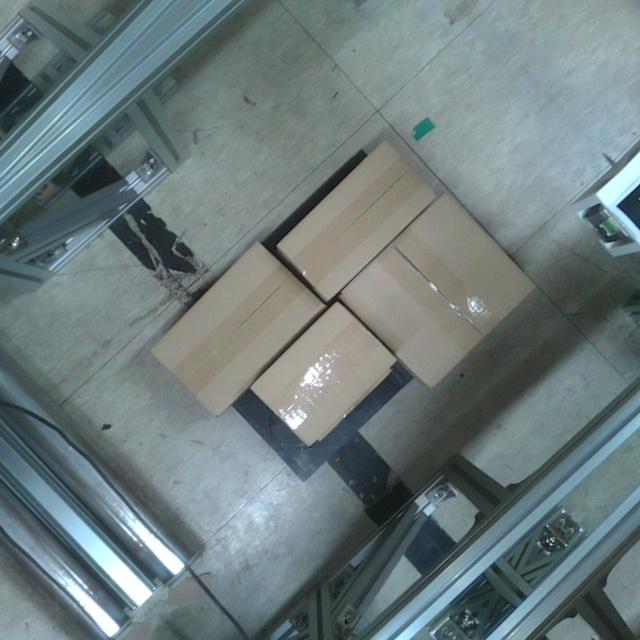box: (334, 188, 542, 395), (142, 232, 334, 422), (270, 135, 442, 305), (246, 297, 403, 453)
